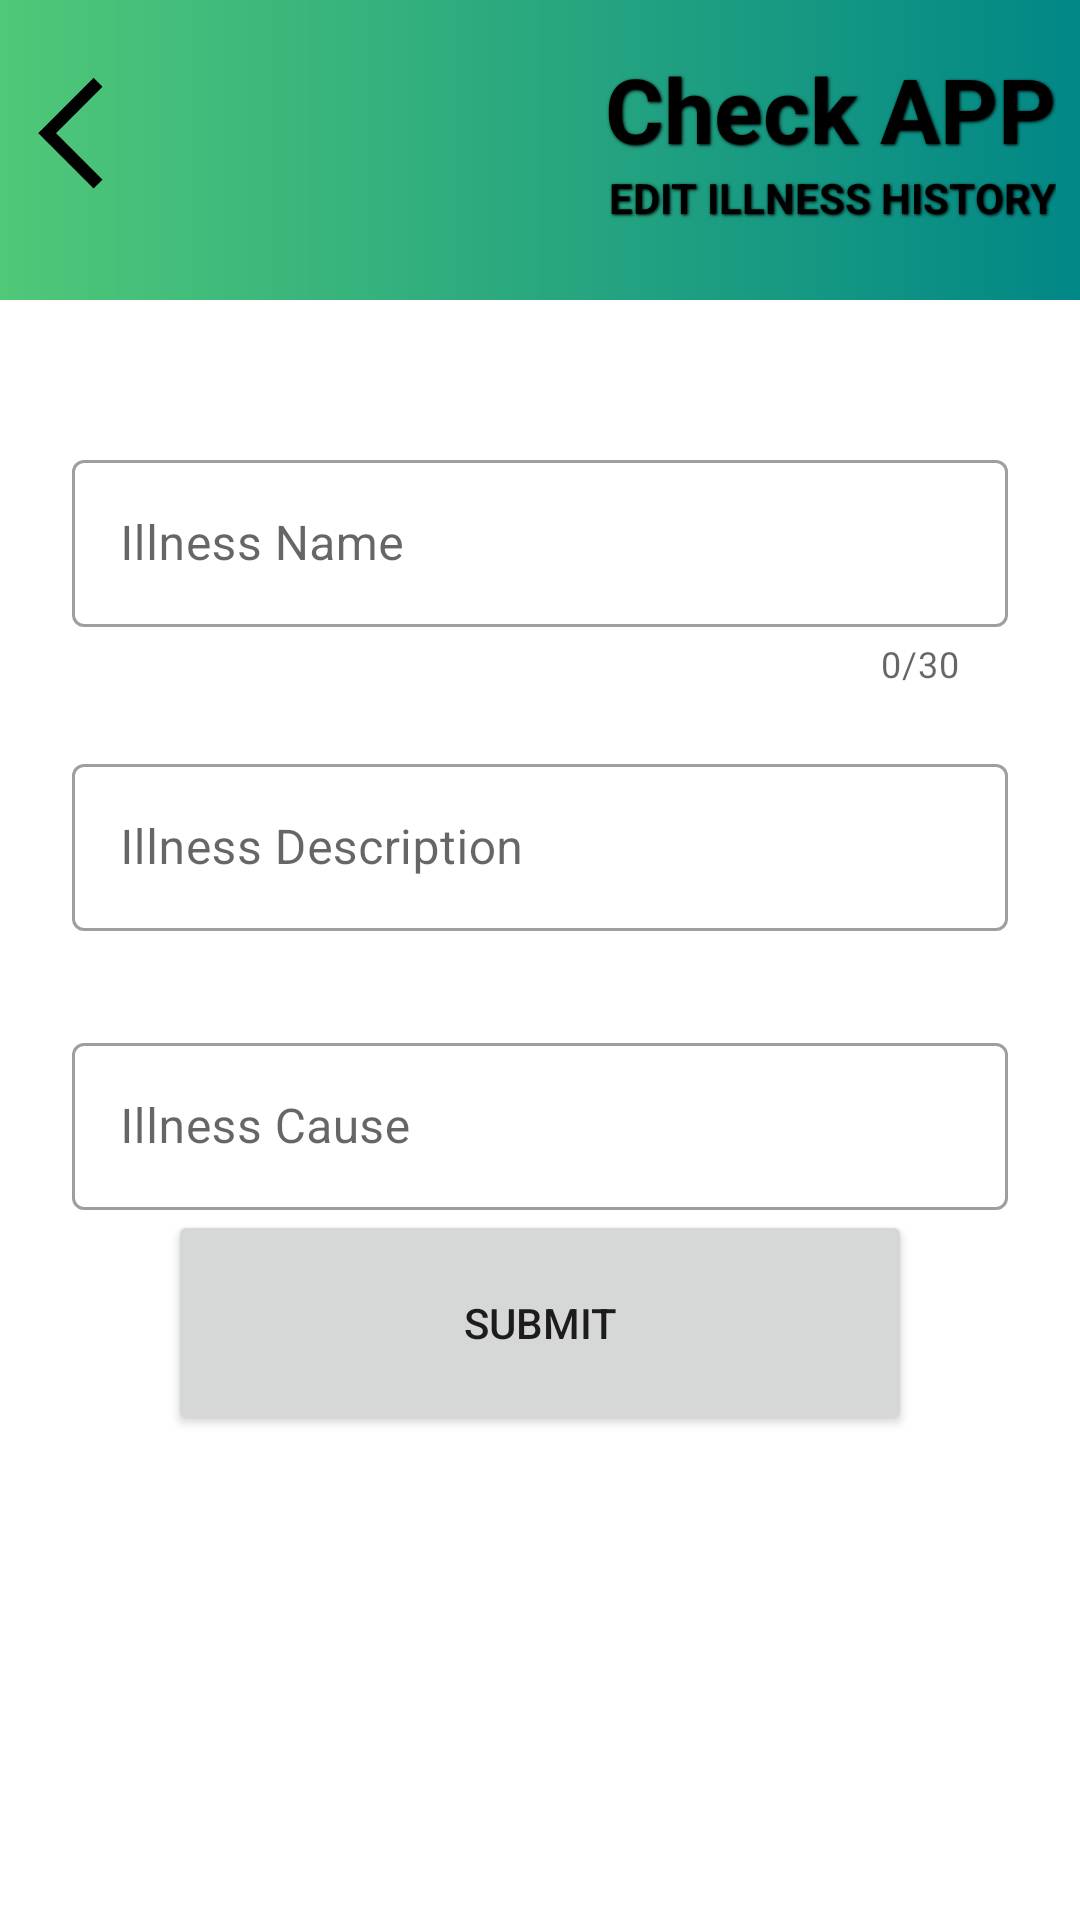

Named icons in this screenshot (1080x1920) and their centers, [x,y]:
backbutton: [70,133]
